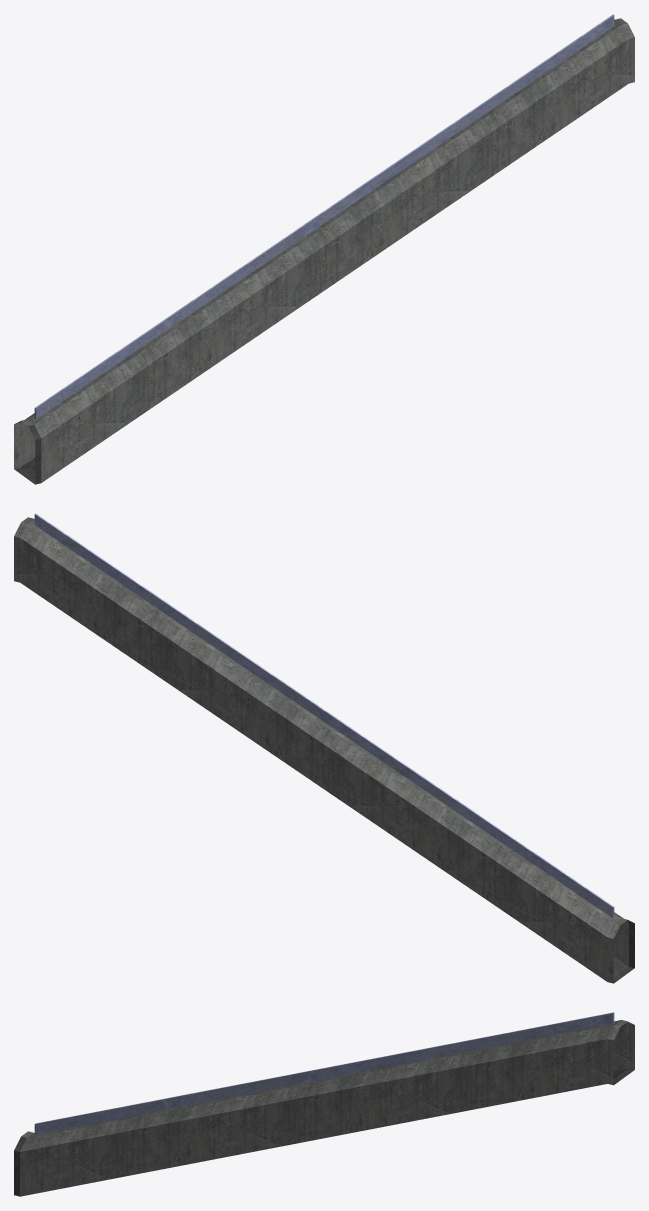
Rendered from thm_yavn_jedi_enclave_dark_r3_ramp2_mesh.fbx.
3 views of the same model, one above another, from view 1: azimuth 30°, elevation 25°; view 2: azimuth 150°, elevation 25°; view 3: azimuth 330°, elevation 25° (orthographic).
Visible parts, largest first — view 1: mesh_node; view 2: mesh_node; view 3: mesh_node.
Part boxes in pixels (x1,y1,x2,y2): mesh_node: (14,14,634,484); mesh_node: (14,513,634,983); mesh_node: (14,1012,634,1196).
Size of the model in its own units: 49 by 24.87 by 3.01.
